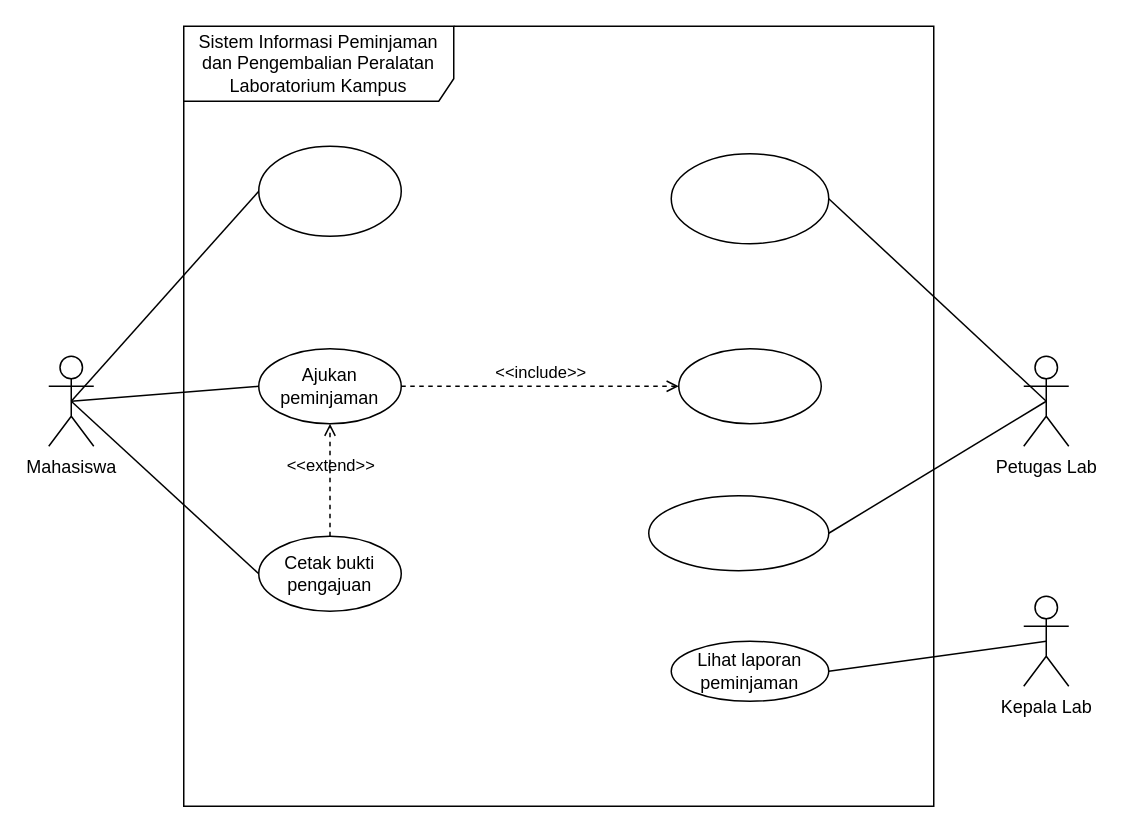
The diagram is 1122 pixels wide and 833 high, and some of its shapes have lost their labels. The shapes that lost their labels are listed below. From the top down, each one's box as (x1, y1, x2, y2) in pixels, then its label:
(257, 145, 401, 236): Lihat ketersediaan peralatan
(670, 152, 829, 244): Kelola data peralatan
(677, 347, 821, 424): Periksa ketersediaan
(647, 494, 829, 571): Proses keputusan peminjaman
